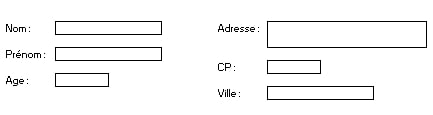input: (263, 15, 433, 52), (48, 16, 168, 40), (52, 44, 165, 64), (263, 84, 379, 102), (52, 69, 115, 93), (264, 57, 325, 77)
text: (215, 16, 262, 44), (1, 47, 47, 62), (3, 18, 34, 38), (213, 56, 241, 77), (2, 72, 35, 88), (213, 86, 246, 102)
